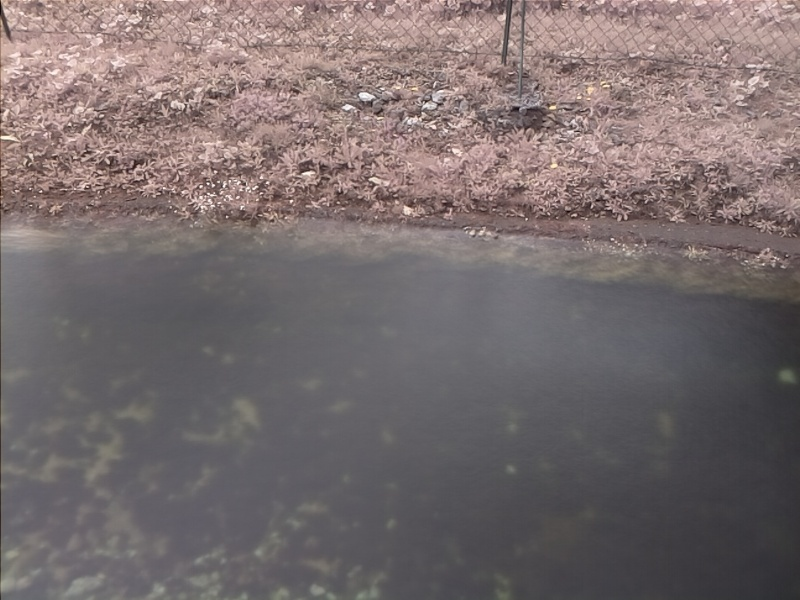Water: (1, 211, 800, 599)
